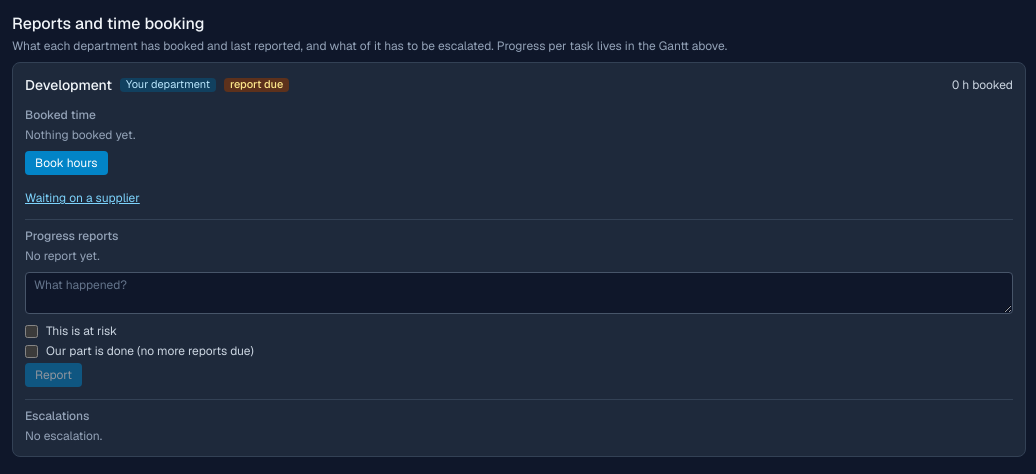
Scenario: C23 cadence › our part done is sent with the report and excludes at risk
Later steps or results of the test are not shown.
Click the checkbox with test id "impl-report-done-2": [32, 351] box [25,344,38,358]
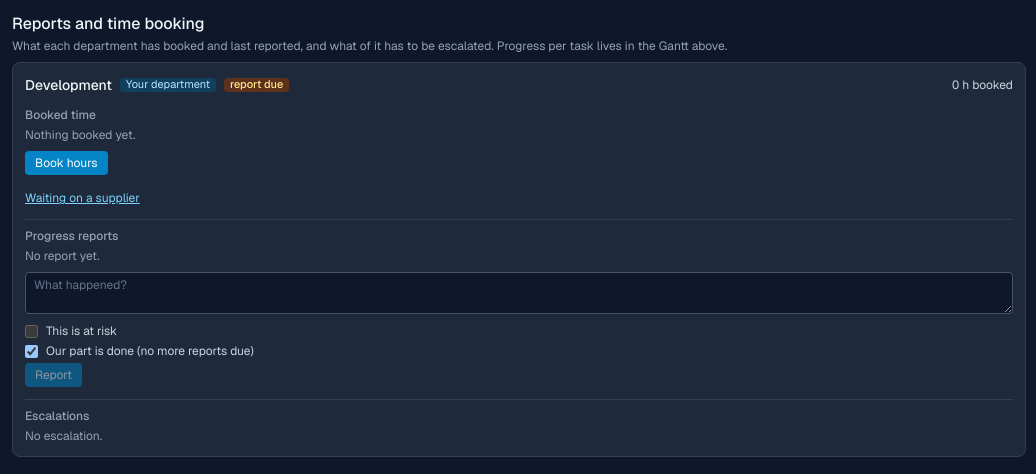
Now the checkbox with test id "impl-report-atrisk-2" is disabled, box [25,324,38,338]
